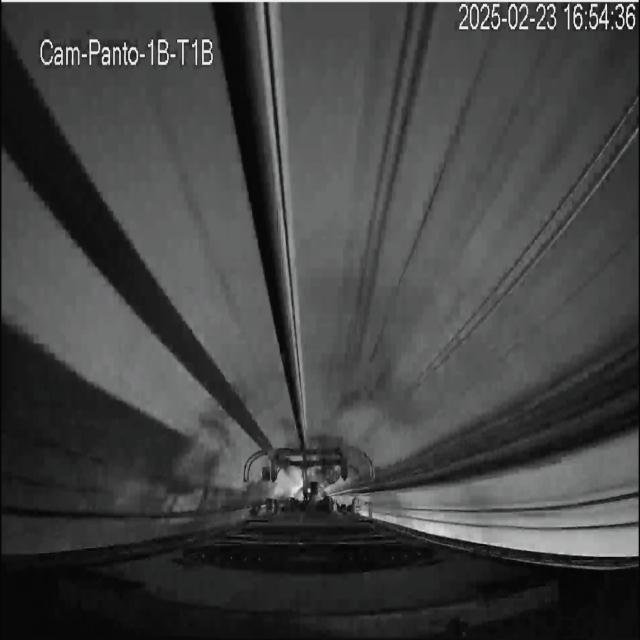Camera Stamp: (36, 31, 222, 71)
Date Stamp: (459, 3, 637, 33)
No - Spark: (244, 439, 373, 519), (311, 393, 397, 495)
